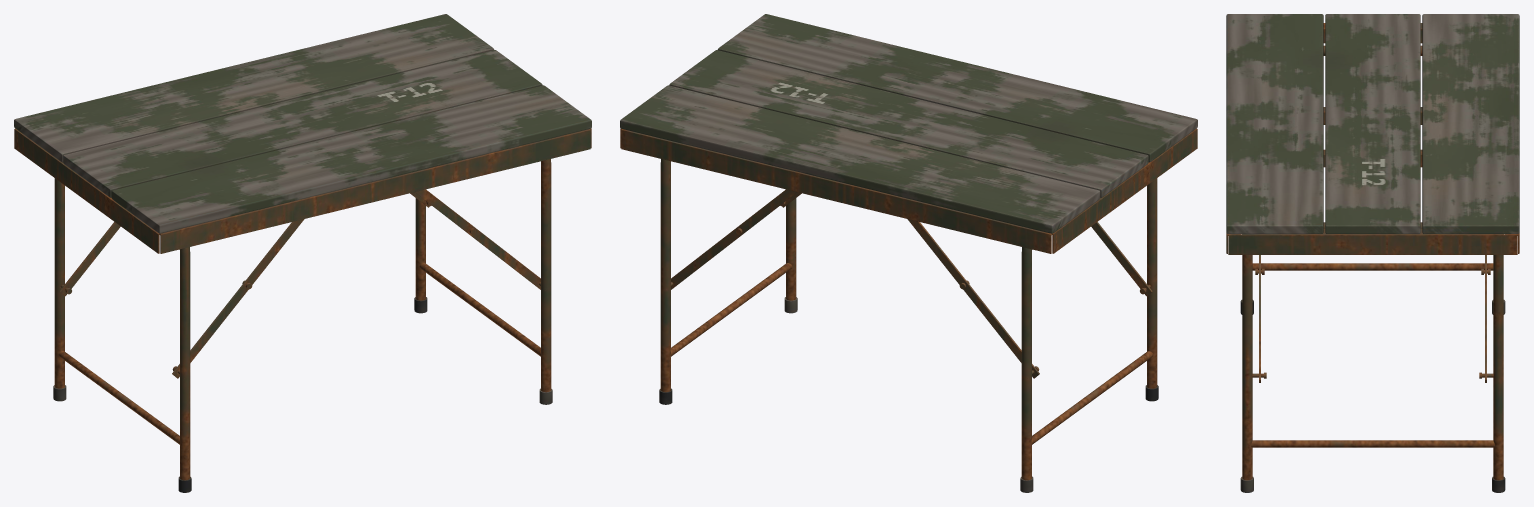
Rendered from Table.glb.
3 renders of one model, left to right at view 1: azimuth 30°, elevation 25°; view 2: azimuth 150°, elevation 25°; view 3: azimuth 270°, elevation 25°, orthographic.
Visible parts, largest first — view 1: Table; view 2: Table; view 3: Table.
Part boxes in pixels (bbox=[...]): Table: bbox=[14, 14, 591, 492]; Table: bbox=[620, 14, 1197, 492]; Table: bbox=[1226, 14, 1519, 492].
Bounding box in the file's own units: 1.2 × 0.744 × 0.7.
Materials: 1 (1 with a texture image).
